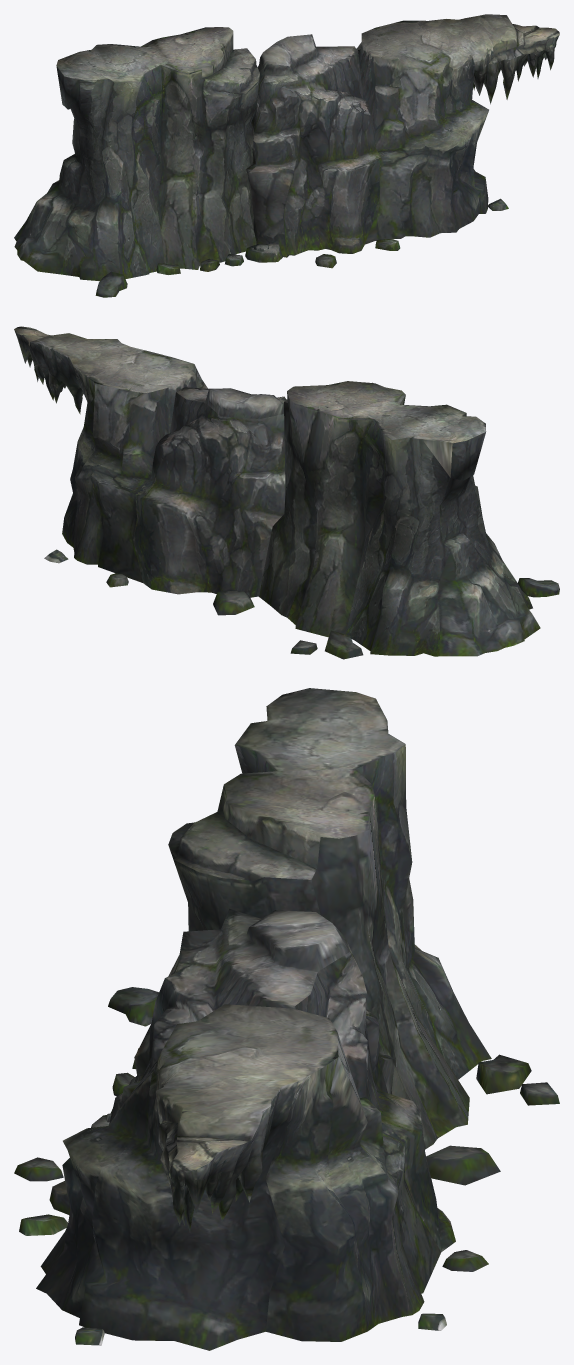
The picture shows the model from 3 angles, top to bottom: view 1: azimuth 30°, elevation 25°; view 2: azimuth 150°, elevation 25°; view 3: azimuth 270°, elevation 25°; orthographic projection. The views are drawn at different scales.
Parts seen in each view (by area): view 1: A_ST_05; view 2: A_ST_05; view 3: A_ST_05.
Boxes of the visible parts, x1,y1,x2,y2 form: A_ST_05: (14,14,559,297); A_ST_05: (14,326,559,659); A_ST_05: (14,688,559,1350).
Bounding box in the file's own units: 4381 × 1514 × 2294.
